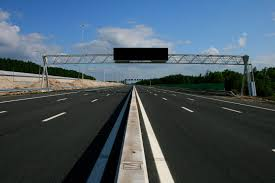strada: (1, 86, 126, 183), (148, 87, 272, 180)
